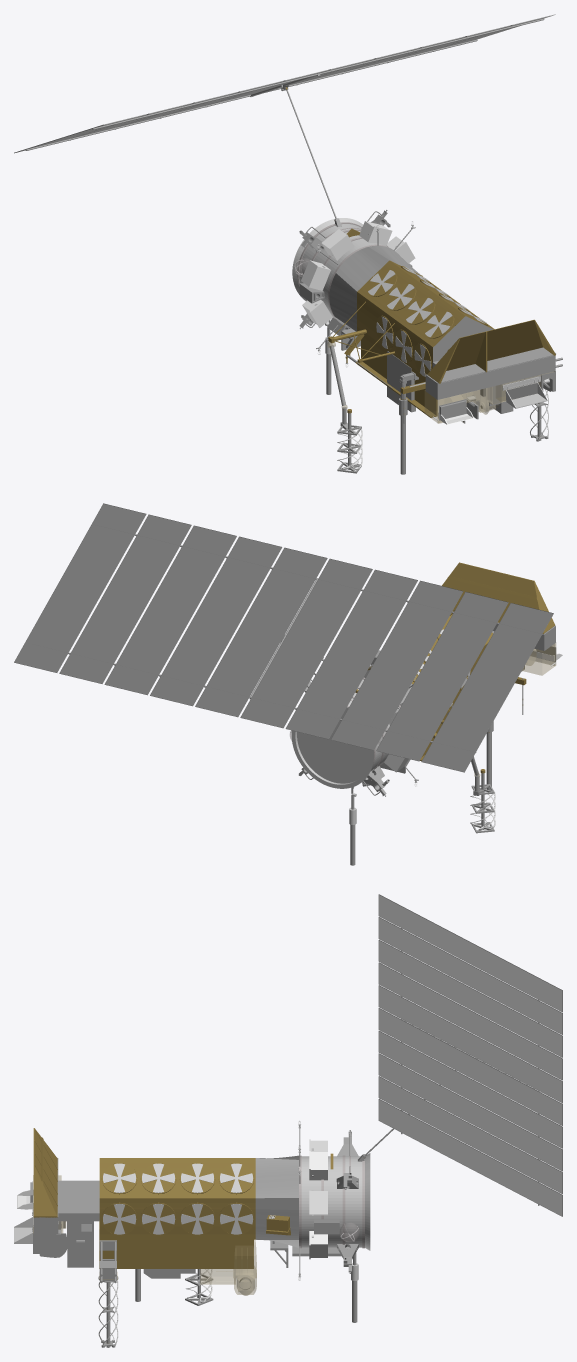
Rendered from polar-operational-environmental-satellite-poes.glb.
The picture shows the model from 3 angles, top to bottom: view 1: azimuth 30°, elevation 25°; view 2: azimuth 150°, elevation 25°; view 3: azimuth 270°, elevation 25°; orthographic projection. The views are drawn at different scales.
Visible parts, largest first — view 1: mesh_0_10, mesh_0_2; view 2: mesh_0_10, mesh_0_23, mesh_0_2; view 3: mesh_0_10, mesh_0_23, mesh_0_2.
Boxes of the visible parts, x1,y1,x2,y2 form: mesh_0_10: [14, 14, 562, 474]; mesh_0_2: [294, 220, 554, 423]; mesh_0_10: [14, 503, 562, 865]; mesh_0_23: [15, 504, 552, 771]; mesh_0_2: [290, 643, 555, 778]; mesh_0_10: [14, 894, 562, 1347]; mesh_0_23: [379, 895, 562, 1215]; mesh_0_2: [33, 1157, 364, 1343].
Size of the model in its own units: 398 by 269 by 408.
Materials: 4 (4 with a texture image).
